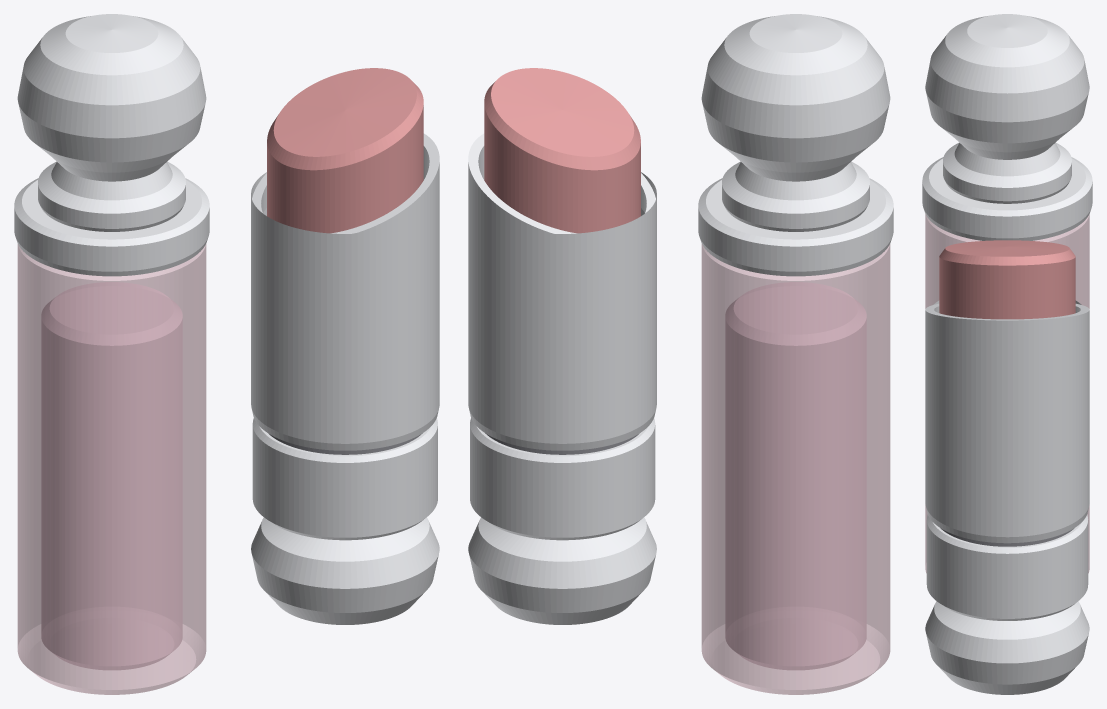
File: Lipglow.glb
The picture shows the model from 3 angles, left to right: view 1: azimuth 30°, elevation 25°; view 2: azimuth 150°, elevation 25°; view 3: azimuth 270°, elevation 25°; orthographic projection. The views are drawn at different scales.
Parts seen in each view (by area): view 1: cap_0, cap_1, tube_3, cap_3, tube_4, tube_1, tube_0, cap_2; view 2: cap_0, cap_1, tube_3, cap_3, tube_4, tube_1, tube_0, cap_2; view 3: tube_3, cap_3, tube_1, tube_0, tube_4, cap_2, cap_0, tube_2.
Part boxes in pixels (x1=…): cap_0: x1=17, y1=244, x2=206, y2=694; cap_1: x1=41, y1=282, x2=182, y2=669; tube_3: x1=251, y1=133, x2=439, y2=450; cap_3: x1=17, y1=14, x2=206, y2=231; tube_4: x1=267, y1=68, x2=423, y2=233; tube_1: x1=252, y1=418, x2=437, y2=540; tube_0: x1=251, y1=517, x2=439, y2=624; cap_2: x1=14, y1=178, x2=209, y2=276; cap_0: x1=701, y1=244, x2=890, y2=694; cap_1: x1=725, y1=282, x2=866, y2=669; tube_3: x1=468, y1=133, x2=656, y2=450; cap_3: x1=701, y1=14, x2=890, y2=231; tube_4: x1=484, y1=68, x2=640, y2=233; tube_1: x1=470, y1=418, x2=655, y2=540; tube_0: x1=468, y1=517, x2=656, y2=624; cap_2: x1=698, y1=178, x2=893, y2=276; tube_3: x1=925, y1=300, x2=1089, y2=543; cap_3: x1=925, y1=14, x2=1089, y2=203; tube_1: x1=926, y1=514, x2=1088, y2=620; tube_0: x1=925, y1=601, x2=1089, y2=694; tube_4: x1=939, y1=240, x2=1075, y2=319; cap_2: x1=922, y1=157, x2=1092, y2=240; cap_0: x1=925, y1=214, x2=1089, y2=573; tube_2: x1=940, y1=528, x2=1074, y2=546.
Size of the model in its own units: 5.48 by 8.25 by 2.32.
